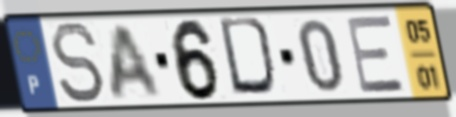0: (295, 17, 348, 95)
6: (169, 16, 226, 104)
A: (109, 22, 165, 102)
D: (216, 15, 283, 101)
E: (343, 13, 409, 96)
S: (46, 20, 108, 106)
